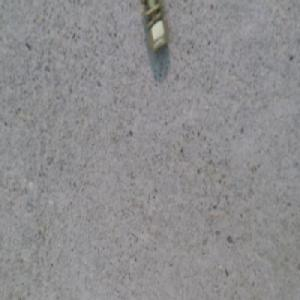BoltNutSet: (144, 5, 169, 63)
